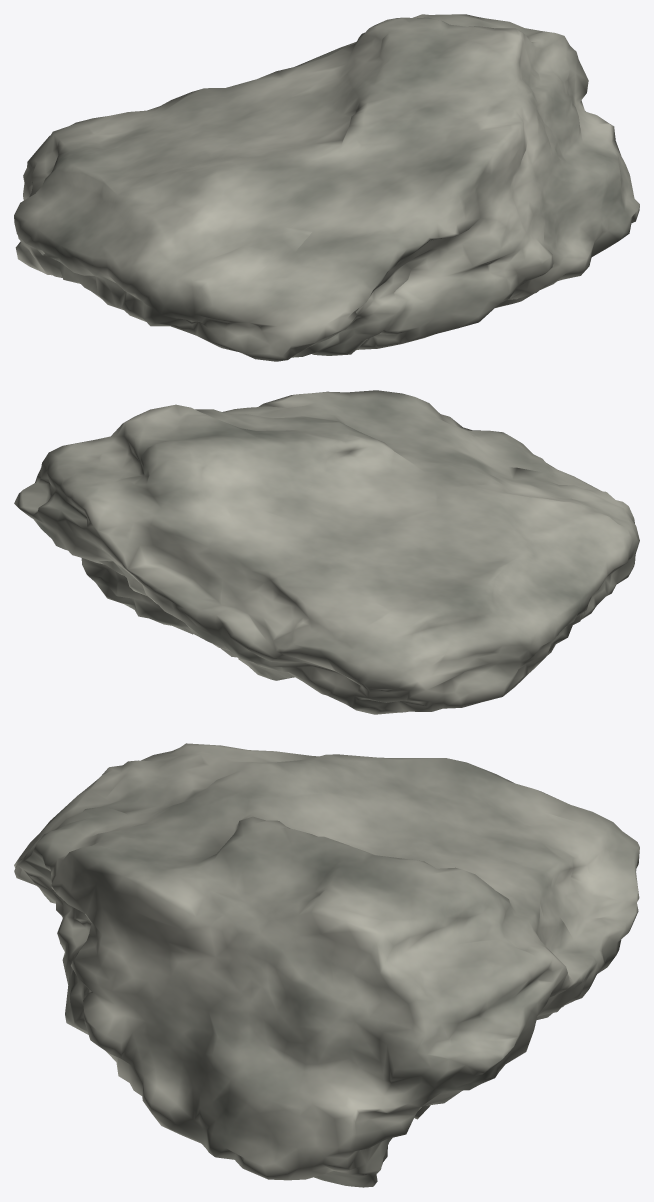
File: incident-rock-2.glb
3 renders of one model, top to bottom at view 1: azimuth 30°, elevation 25°; view 2: azimuth 150°, elevation 25°; view 3: azimuth 270°, elevation 25°, orthographic. The views are drawn at different scales.
Visible parts, largest first — view 1: rock-2; view 2: rock-2; view 3: rock-2.
Part boxes in pixels (x1,y1,x2,y2): rock-2: [14, 14, 639, 361]; rock-2: [14, 390, 639, 714]; rock-2: [14, 743, 639, 1187].
Bounding box in the file's own units: 2.04 × 0.7832 × 1.64.
Materials: 1 (1 with a texture image).
